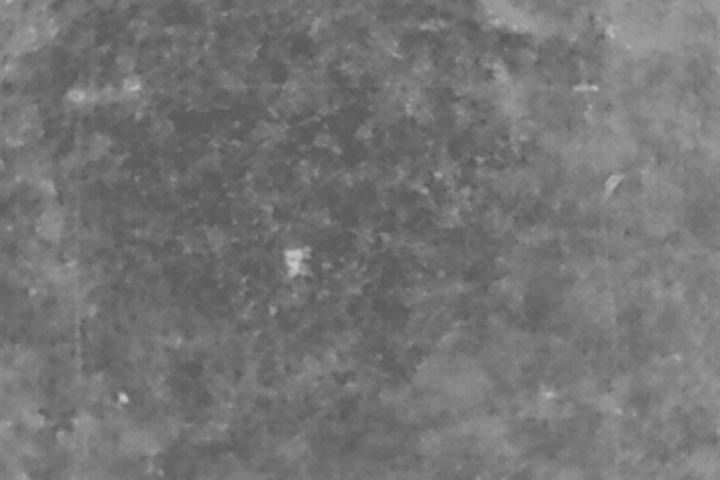landmine: (287, 247, 309, 278)
